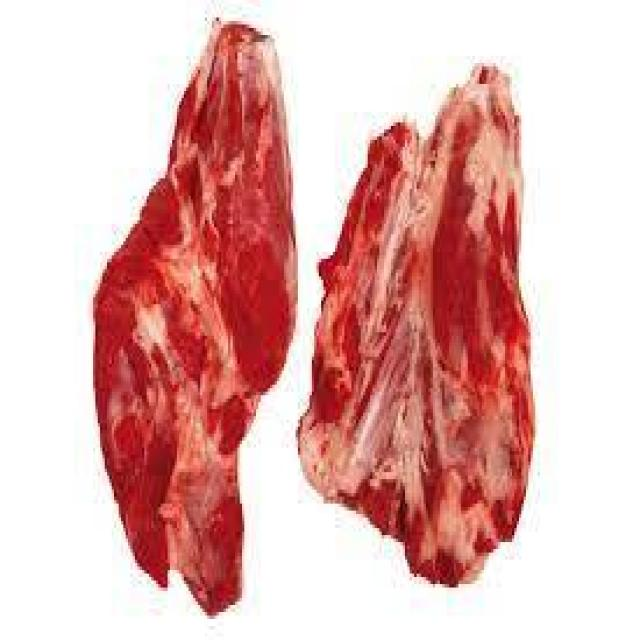Wet Waste: (333, 65, 526, 563)
